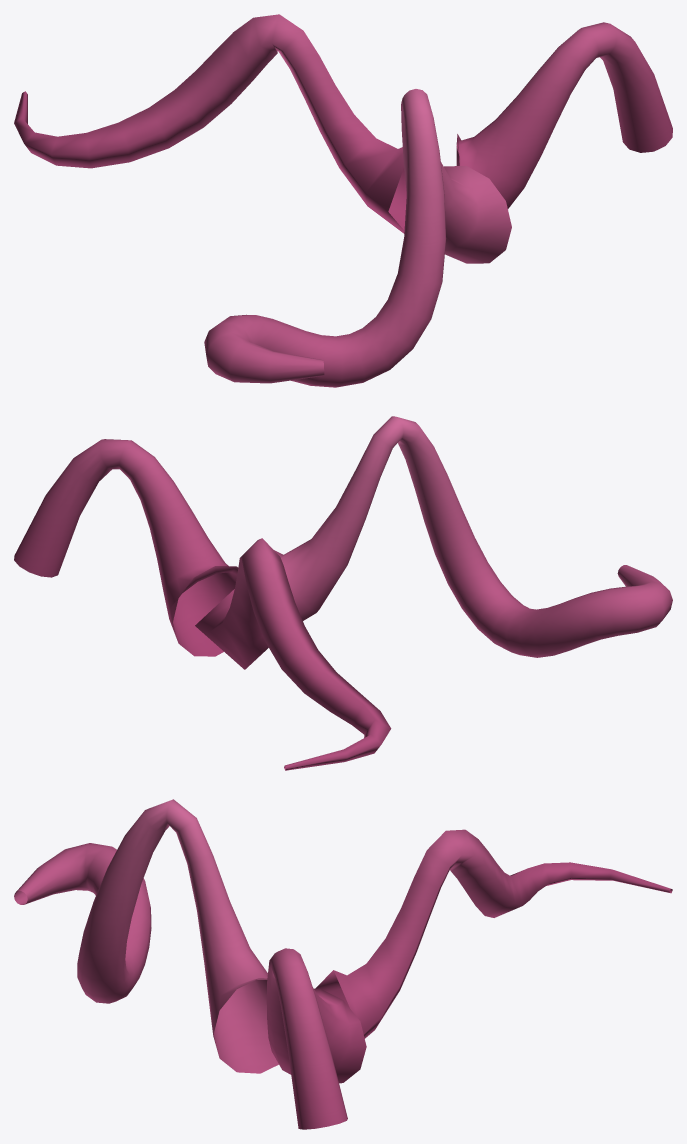
Rendered from Racines.fbx.
3 renders of one model, top to bottom at view 1: azimuth 30°, elevation 25°; view 2: azimuth 150°, elevation 25°; view 3: azimuth 270°, elevation 25°, orthographic. The views are drawn at different scales.
Parts seen in each view (by area): view 1: NurbsPath.055, NurbsPath.056, NurbsPath.054; view 2: NurbsPath.055, NurbsPath.054, NurbsPath.056; view 3: NurbsPath.055, NurbsPath.056, NurbsPath.054.
Part boxes in pixels (x1,y1,x2,y2): NurbsPath.055: (204,89,511,387); NurbsPath.056: (14,14,406,233); NurbsPath.054: (456,22,672,208); NurbsPath.055: (274,416,672,657); NurbsPath.054: (14,439,238,656); NurbsPath.056: (195,538,391,770); NurbsPath.055: (14,799,278,1073); NurbsPath.056: (315,829,672,1038); NurbsPath.054: (266,948,366,1129).
Bounding box in the file's own units: 95.52 × 39.15 × 95.92.
